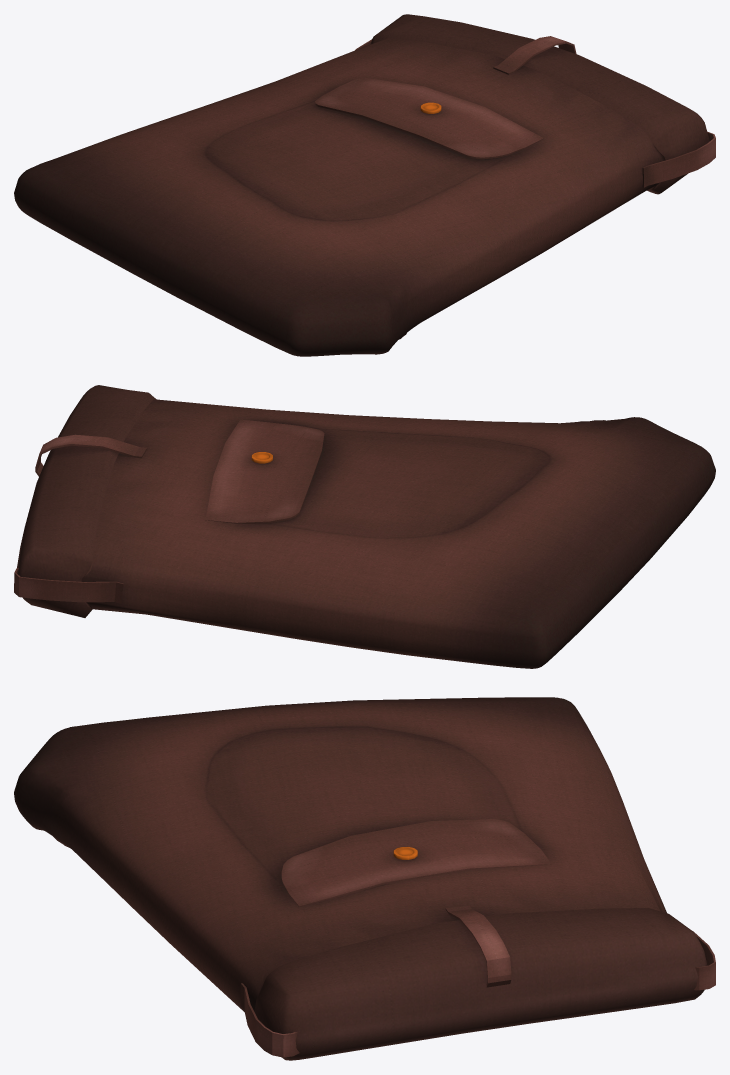
Rendered from Pantalon de papypour SE.FBX.
3 renders of one model, top to bottom at view 1: azimuth 30°, elevation 25°; view 2: azimuth 150°, elevation 25°; view 3: azimuth 270°, elevation 25°, orthographic. The views are drawn at different scales.
Parts seen in each view (by area): view 1: Pantalon plié; view 2: Pantalon plié; view 3: Pantalon plié.
Boxes of the visible parts, box(x1,y1,x2,y2) form: Pantalon plié: box(14, 14, 715, 356); Pantalon plié: box(14, 385, 715, 668); Pantalon plié: box(14, 697, 715, 1060).
Size of the model in its own units: 0.2915 by 0.0448 by 0.2638.
1 material, 1 textured.
